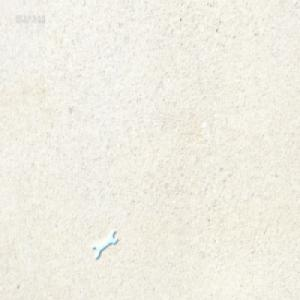Wrench: (93, 230, 117, 258)
